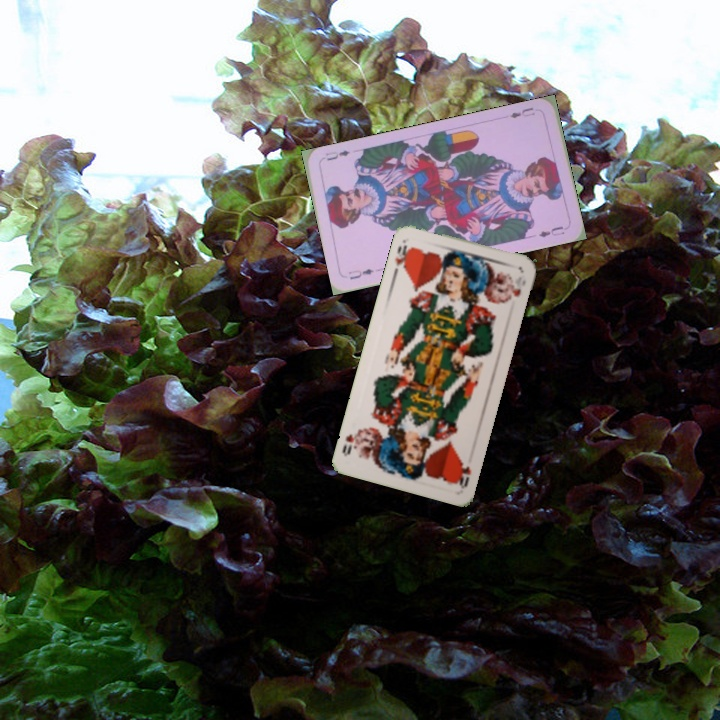EU: (344, 264, 376, 282), (506, 103, 537, 121)
HO: (391, 241, 414, 273), (453, 458, 474, 491)
